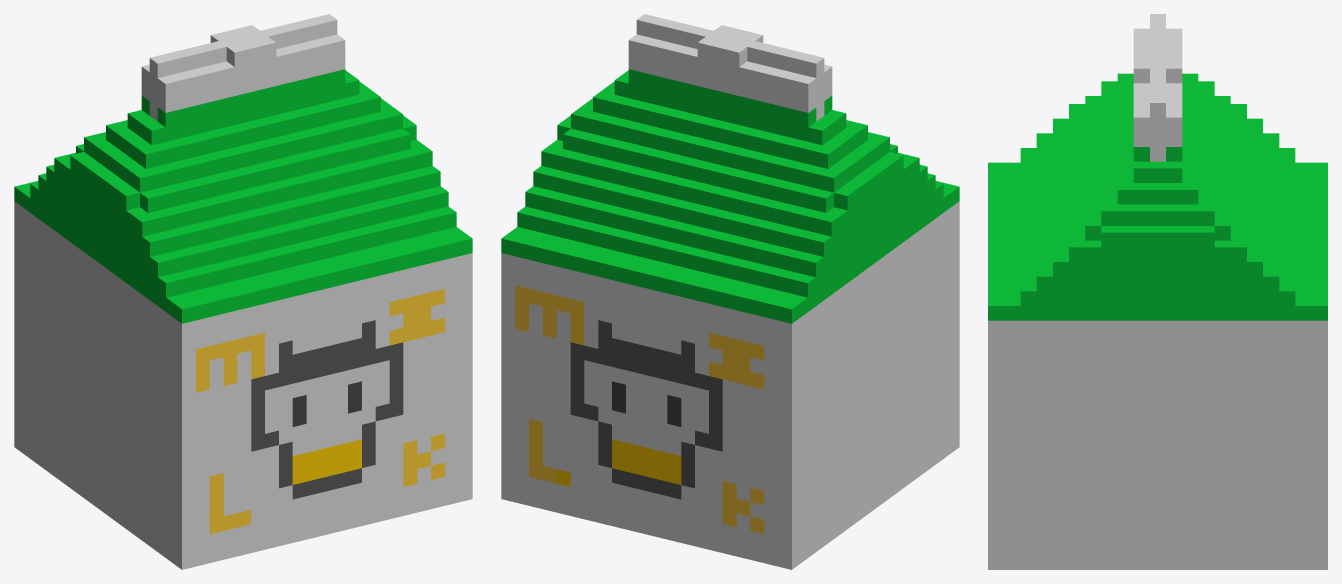
Rendered from milkbox.fbx.
The picture shows the model from 3 angles, left to right: view 1: azimuth 30°, elevation 25°; view 2: azimuth 150°, elevation 25°; view 3: azimuth 270°, elevation 25°; orthographic projection.
Parts seen in each view (by area): view 1: Polygon; view 2: Polygon; view 3: Polygon.
Part boxes in pixels (bbox=[...]): Polygon: bbox=[14, 14, 472, 569]; Polygon: bbox=[501, 14, 959, 569]; Polygon: bbox=[988, 14, 1327, 569].
Bounding box in the file's own units: 2.1 × 3 × 2.1.
Materials: 1 (1 with a texture image).
